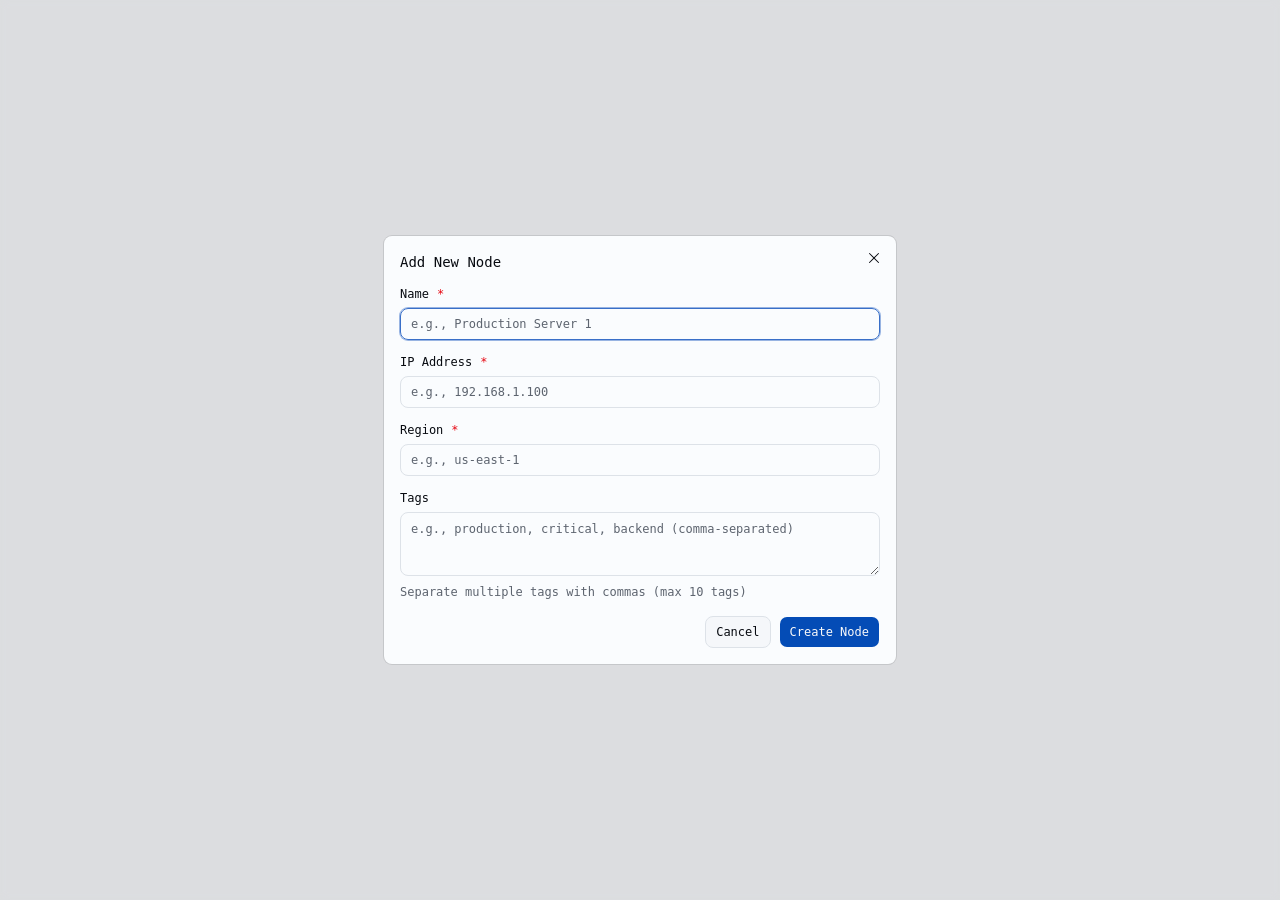
Test: NodeDialog › Create Mode › validates required fields
Click the button "Create Node". click: (829, 632)
box: [778,616,880,648]
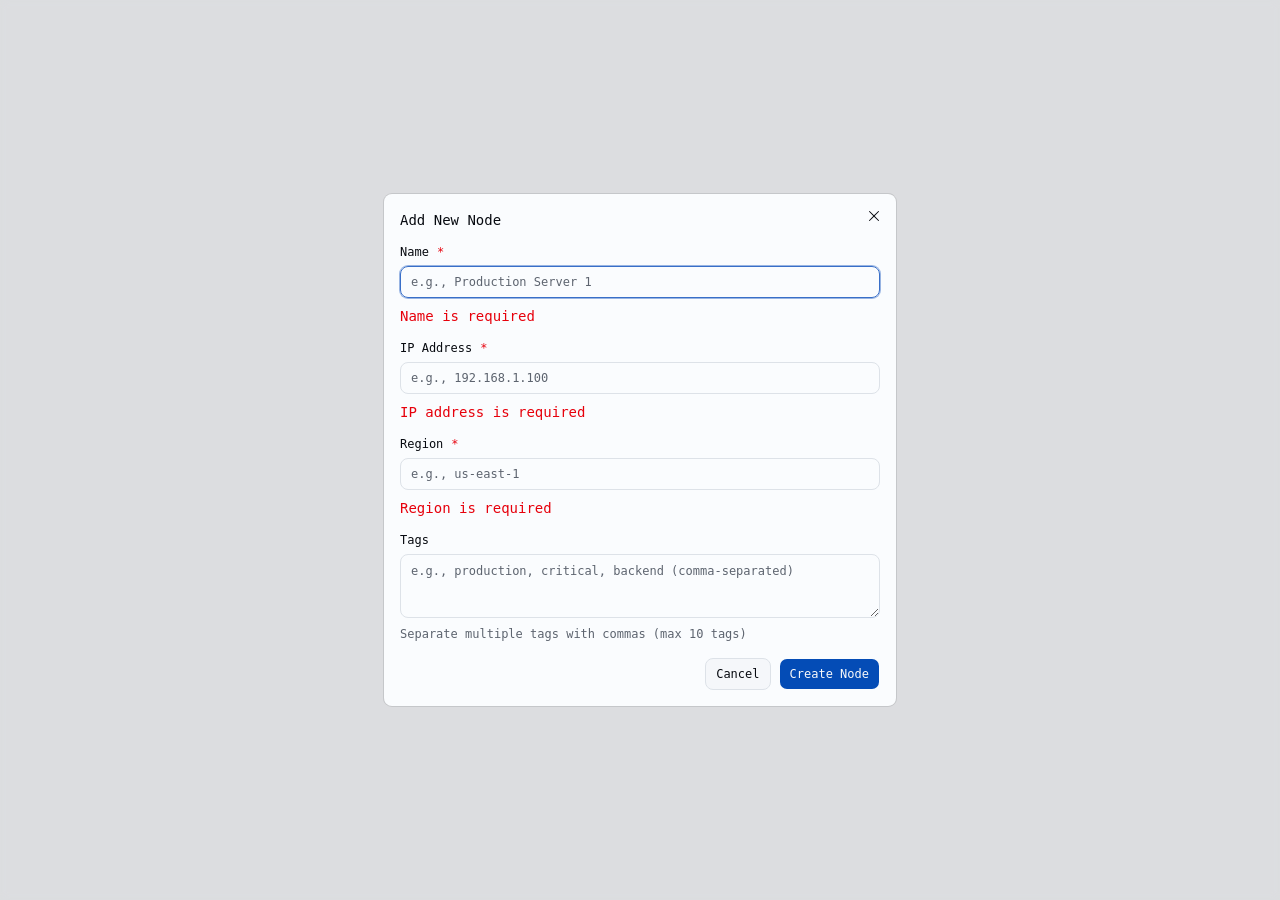
Expected: the text "Name is required" is shown, [400,308,535,324]
Expected: the text "IP address is required" is shown, [400,404,585,420]
Expected: the text "Region is required" is shown, [400,500,552,516]
